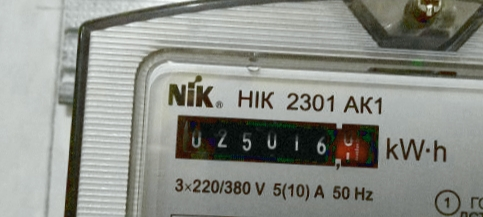0: (264, 127, 279, 151), (188, 127, 202, 149), (340, 126, 353, 147)
1: (288, 128, 301, 153), (341, 150, 350, 161)
2: (214, 125, 228, 149)
5: (238, 130, 251, 151)
6: (312, 132, 327, 158)
screen: (164, 103, 389, 177)
